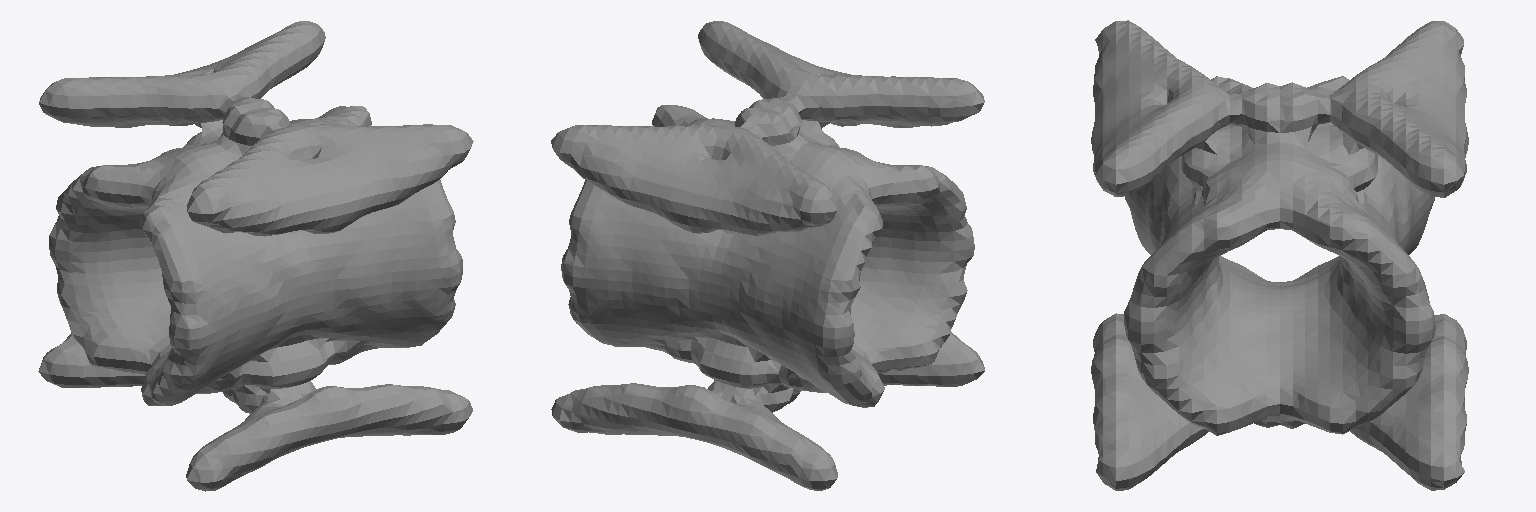
URDF robot description (cube.urdf):
<?xml version="0.0" ?> 
<robot name="cube.urdf"> 
<link name="legobrick"> 
<contact> 
<lateral_friction value="5.0"/> 
<rolling_friction value="0.0"/> 
<contact_cfm value="0.0"/> 
<contact_erp value="1.0"/> 
</contact> 
<inertial> 
<origin rpy="0 0 0" xyz="0.0 0.0 0.0"/> 
<mass value=".01"/> 
<inertia ixx="1" ixy="0" ixz="0" iyy="1" iyz="0" izz="1"/> 
</inertial> 
<visual> 
<origin rpy="1.570796 0 0" xyz="-0.026254447963914594 0.026262113332051213 -0.026274313533381874"/> 
<geometry> 
<mesh filename="N17_2.obj" scale="0.0006846801783920366 0.0006846801783920366 0.0006846801783920366"/> 
</geometry> 
<material name="yellow"> 
<color rgba="0.6 0.6 0.6 1"/> 
</material> 
</visual> 
<collision> 
<origin rpy="1.570796 0 0" xyz="-0.026254447963914594 0.026262113332051213 -0.026274313533381874"/> 
<geometry> 
<mesh filename="N17_2.obj" scale="0.0006846801783920366 0.0006846801783920366 0.0006846801783920366"/> 
</geometry> 
</collision> 
</link> 
</robot>

--- What the picture shows (computed from the rendered views, not written in the file) ---
3 views of the same robot in one strip: view 1: azimuth 30°, elevation 25°; view 2: azimuth 150°, elevation 25°; view 3: azimuth 270°, elevation 25° (orthographic).
Model cube.urdf with 1 links and 0 joints (none), rooted at legobrick, posed every joint at zero.
Links seen in each view (by area): view 1: legobrick; view 2: legobrick; view 3: legobrick.
Link boxes in pixels (x1,y1,x2,y2): legobrick: (38,21,473,491); legobrick: (551,21,984,490); legobrick: (1091,20,1468,490).
Bounding box of the posed robot: 0.0548 × 0.056 × 0.056 m (x, y, z).
Meshes: 1 distinct files referenced, 1 mesh visuals loaded (1 OBJ).
